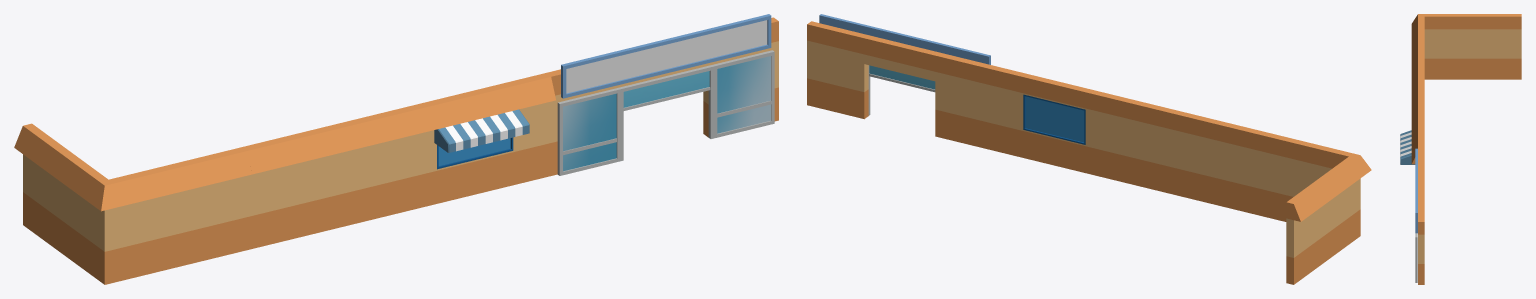
File: Lvl_1.fbx
The picture shows the model from 3 angles, left to right: view 1: azimuth 30°, elevation 25°; view 2: azimuth 150°, elevation 25°; view 3: azimuth 270°, elevation 25°; orthographic projection. The views are drawn at different scales.
Parts seen in each view (by area): view 1: Corner_Wall_M, Mid_Wall_M, Window_Wall_M, Door_M, Board_M, Entery_Wall_M; view 2: Corner_Wall_M, Entery_Wall_M, Window_Wall_M, Mid_Wall_M, Board_M, Door_M; view 3: Corner_Wall_M, Window_Wall_M, Entery_Wall_M, Mid_Wall_M, Board_M, Door_M.
Part boxes in pixels (<box>): Corner_Wall_M: <box>14,123,252,284</box>; Mid_Wall_M: <box>242,110,404,249</box>; Window_Wall_M: <box>394,73,555,212</box>; Door_M: <box>557,50,774,175</box>; Board_M: <box>561,14,771,98</box>; Entery_Wall_M: <box>546,17,778,175</box>; Corner_Wall_M: <box>1240,127,1371,284</box>; Entery_Wall_M: <box>807,21,996,150</box>; Window_Wall_M: <box>992,66,1119,180</box>; Mid_Wall_M: <box>1116,96,1243,210</box>; Board_M: <box>819,14,990,64</box>; Door_M: <box>868,65,935,115</box>; Corner_Wall_M: <box>1411,14,1521,79</box>; Window_Wall_M: <box>1400,105,1424,164</box>; Entery_Wall_M: <box>1418,152,1424,284</box>; Mid_Wall_M: <box>1411,58,1424,116</box>; Board_M: <box>1415,148,1417,233</box>; Door_M: <box>1415,233,1417,282</box>.
Size of the model in its own units: 35.98 by 5.48 by 8.76.
